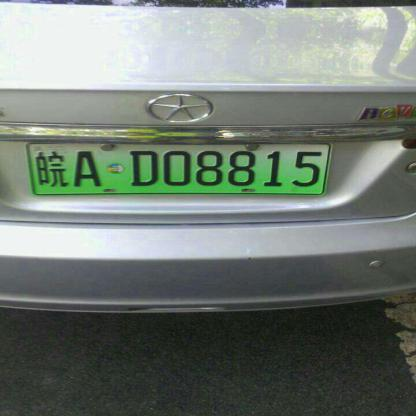lp: (27, 144, 34, 193)
